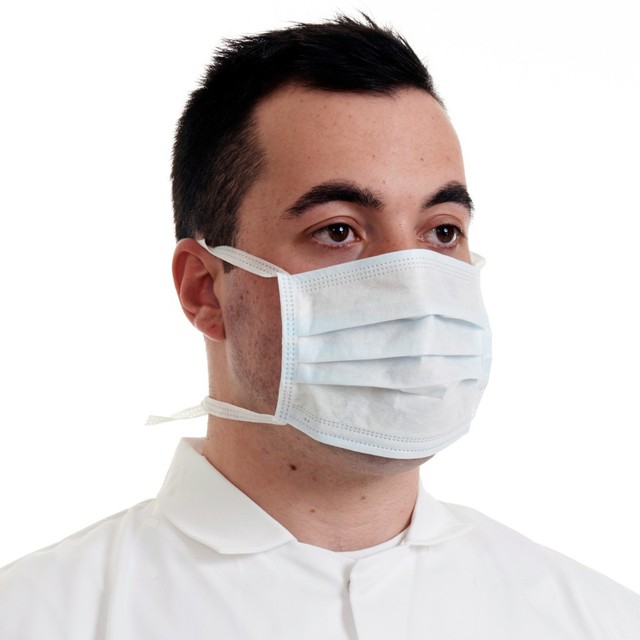mask: (281, 249, 497, 458)
